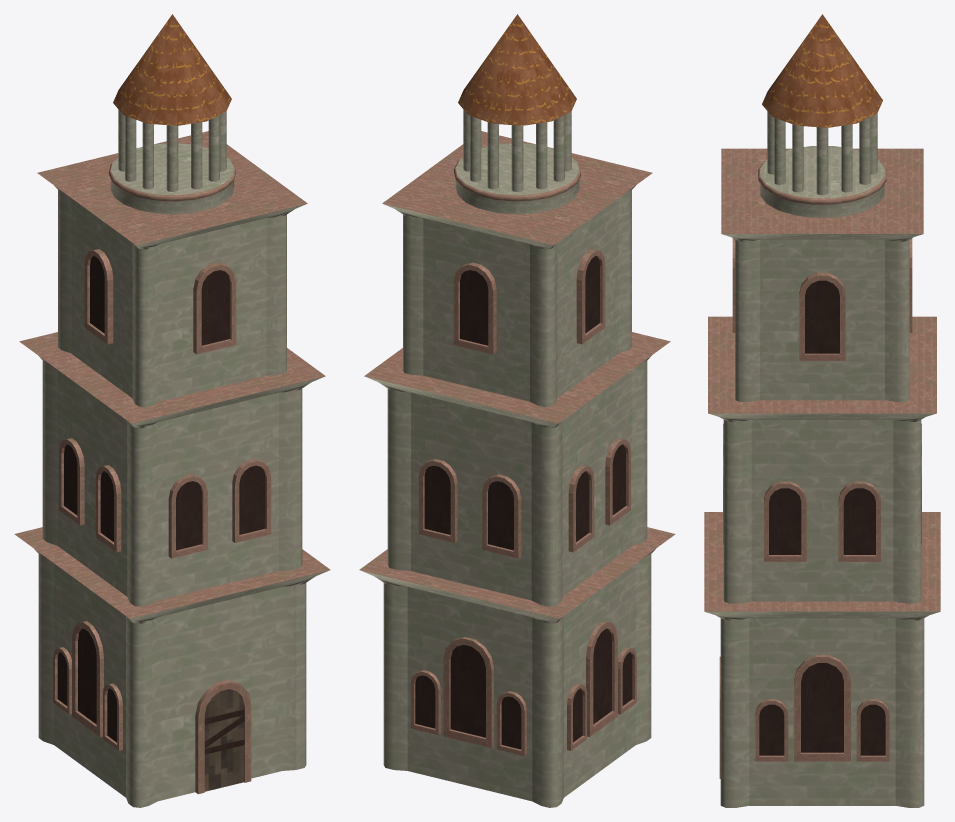
The model's file is SM_Tower_006.fbx.
3 views of the same model, side by side, from view 1: azimuth 30°, elevation 25°; view 2: azimuth 150°, elevation 25°; view 3: azimuth 270°, elevation 25° (orthographic).
Parts seen in each view (by area): view 1: pCylinder54; view 2: pCylinder54; view 3: pCylinder54.
Part boxes in pixels (<box>): pCylinder54: <box>14,14,330,807</box>; pCylinder54: <box>359,14,675,807</box>; pCylinder54: <box>704,14,940,807</box>.
Bounding box in the file's own units: 334 × 1174 × 334.
